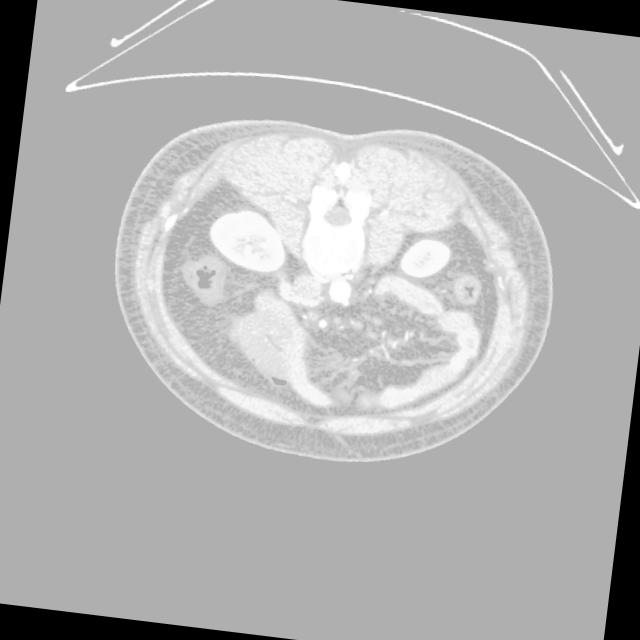NORMAL: (91, 89, 579, 500)
